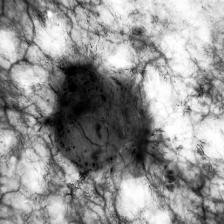Potentially Malignant Skin Tumors: (50, 61, 112, 177)
